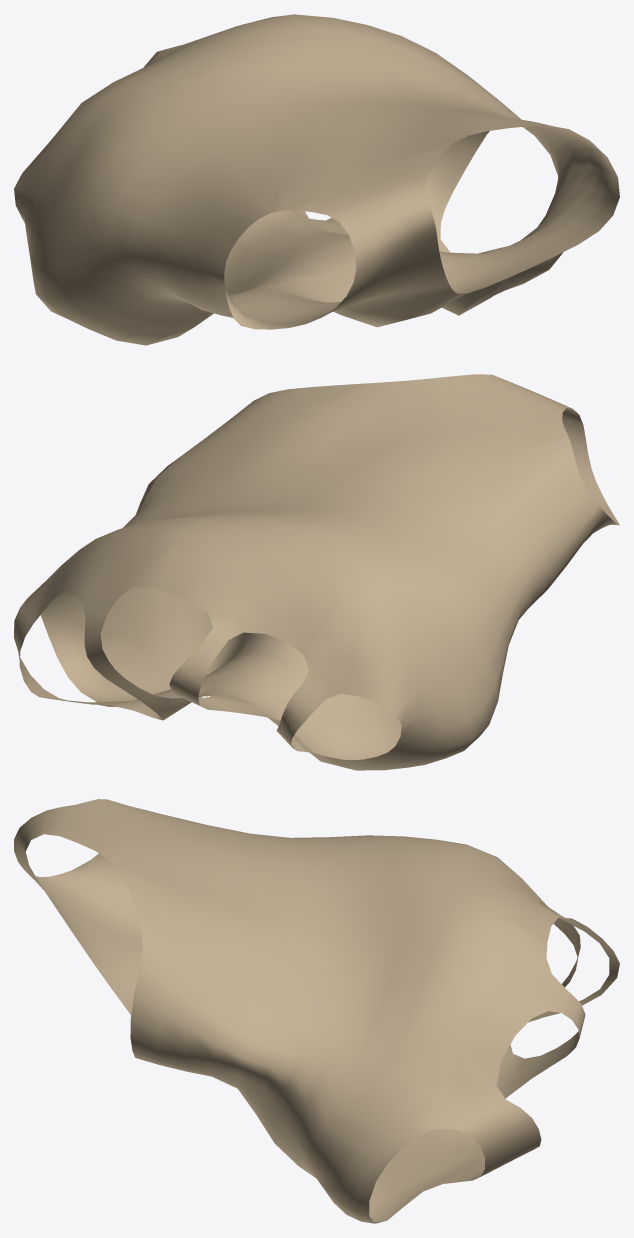
3 renders of one model, top to bottom at view 1: azimuth 30°, elevation 25°; view 2: azimuth 150°, elevation 25°; view 3: azimuth 270°, elevation 25°, orthographic. The views are drawn at different scales.
Visible parts, largest first — view 1: 左侧桡腕关节囊; view 2: 左侧桡腕关节囊; view 3: 左侧桡腕关节囊.
Part boxes in pixels (x1,y1,x2,y2): 左侧桡腕关节囊: [14, 14, 619, 345]; 左侧桡腕关节囊: [14, 374, 619, 770]; 左侧桡腕关节囊: [14, 799, 619, 1223].
Bounding box in the file's own units: 0.0809 × 0.0446 × 0.0901.
